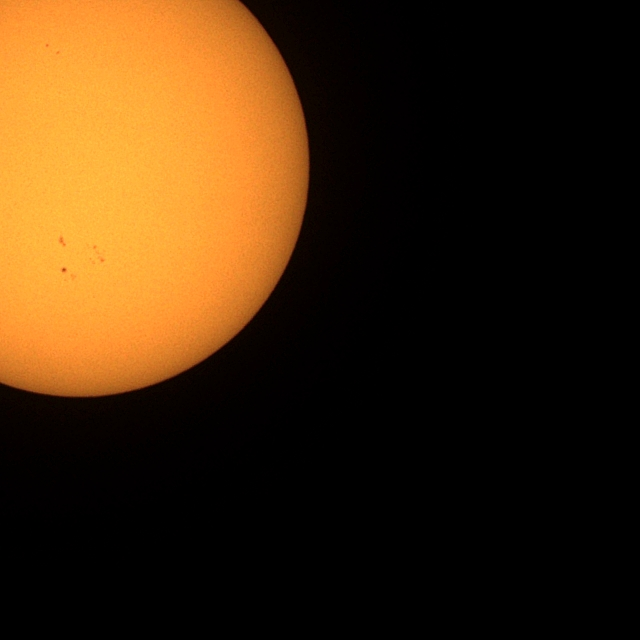sunspot: (89, 244, 105, 265), (60, 266, 77, 283), (58, 236, 66, 247), (61, 266, 67, 273), (45, 43, 50, 48), (55, 50, 60, 55)
